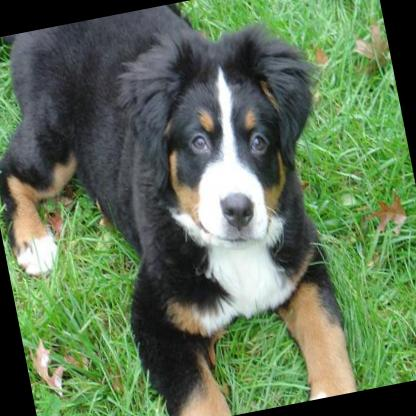Bernese_mountain_dog: (0, 0, 374, 416)
